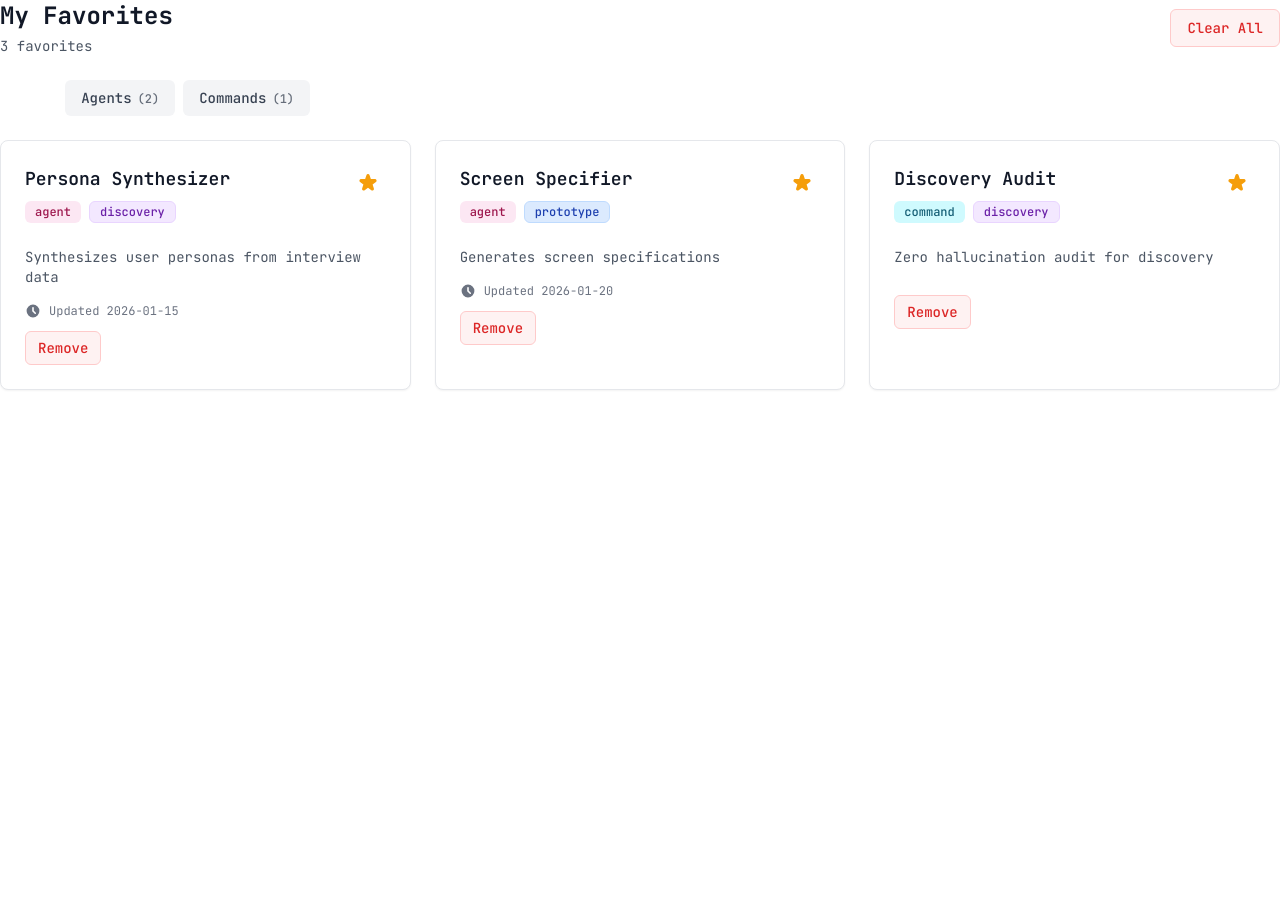
Test case: FavoritesPanel › Interactions › cancels clear all when Cancel is clicked
What coordinates should you click on to do the following:
click the button "Clear All"
I would click on:
 (1225, 28)
Its box is [1170,9,1279,47].
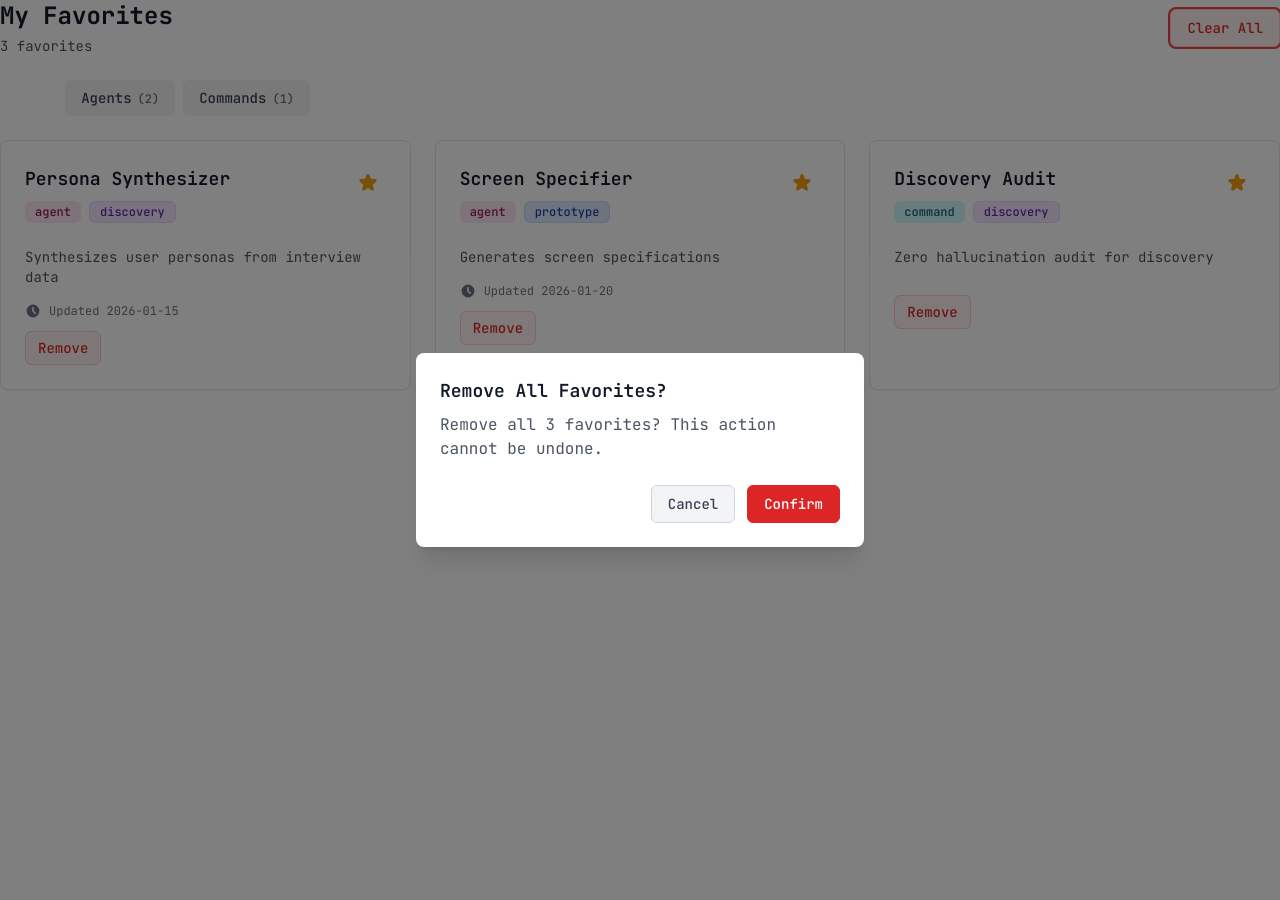
What coordinates should you click on to do the following:
click the button "Cancel"
I would click on:
 (693, 504)
Its box is [651,485,735,523].
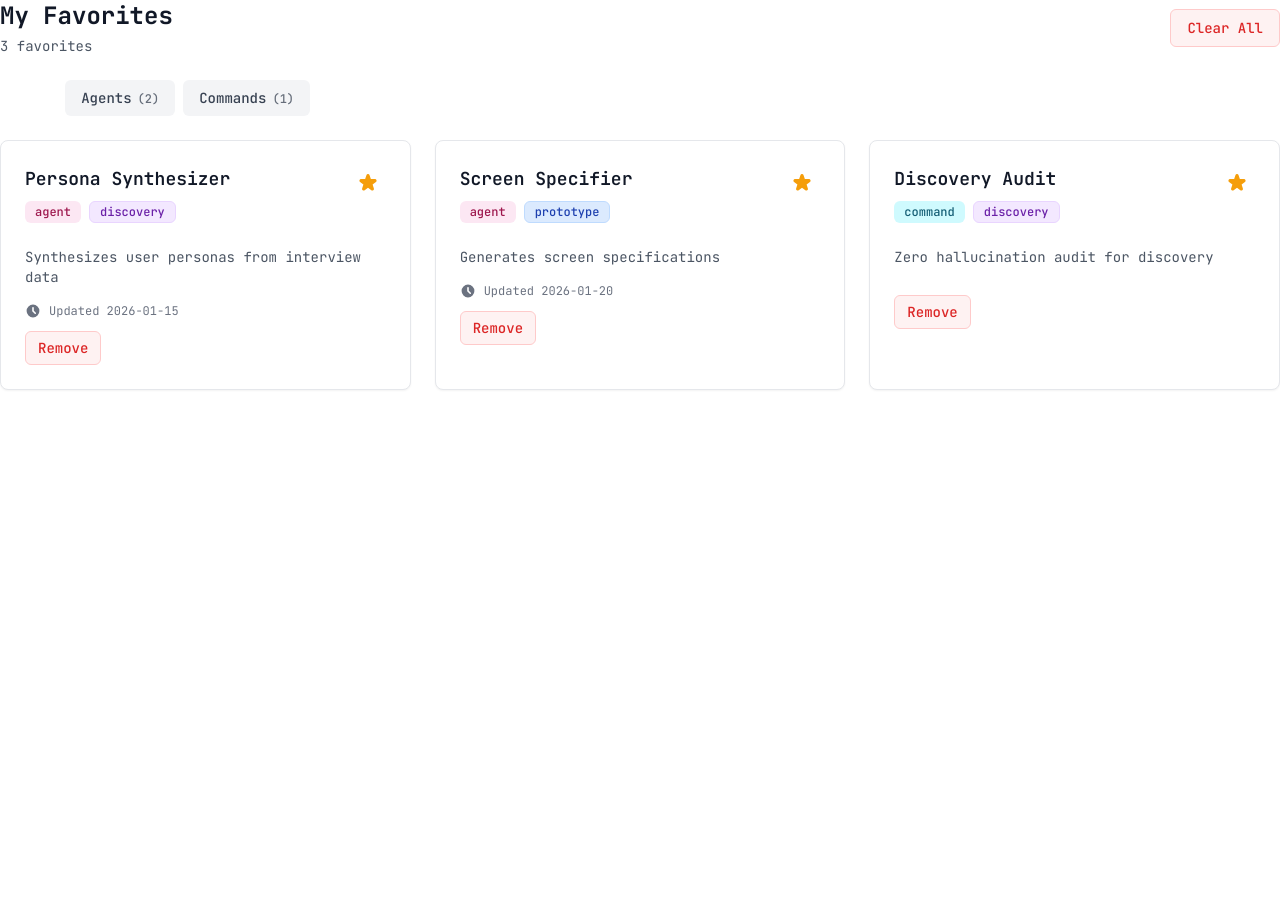
Result: the text "Remove all 3 favorites" is gone
